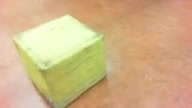cube: (12, 14, 108, 108)
